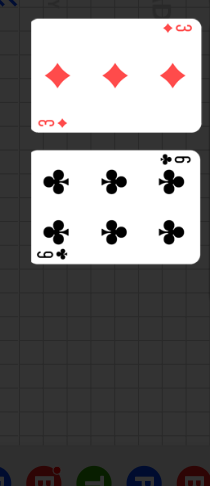6C: (35, 247, 70, 261), (158, 154, 192, 168)
